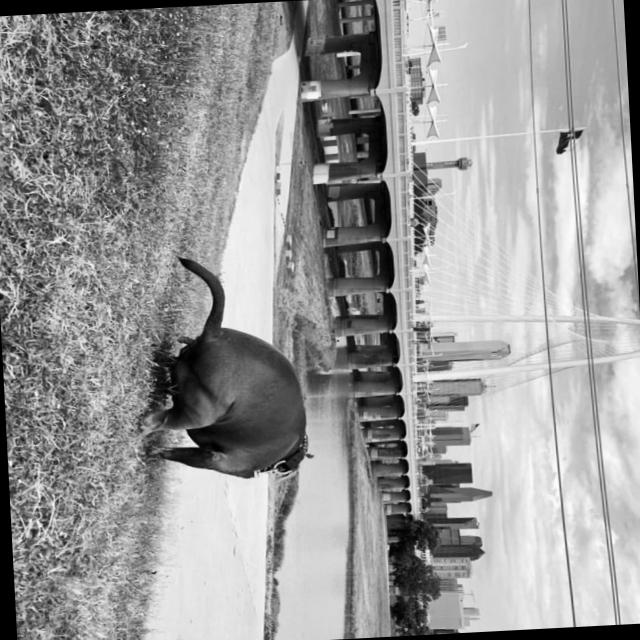squatting: (124, 247, 325, 502)
